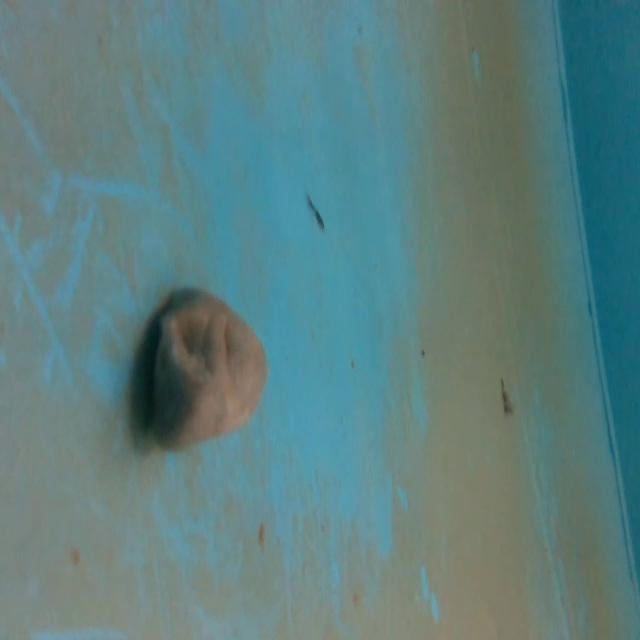rock: (142, 280, 270, 455)
